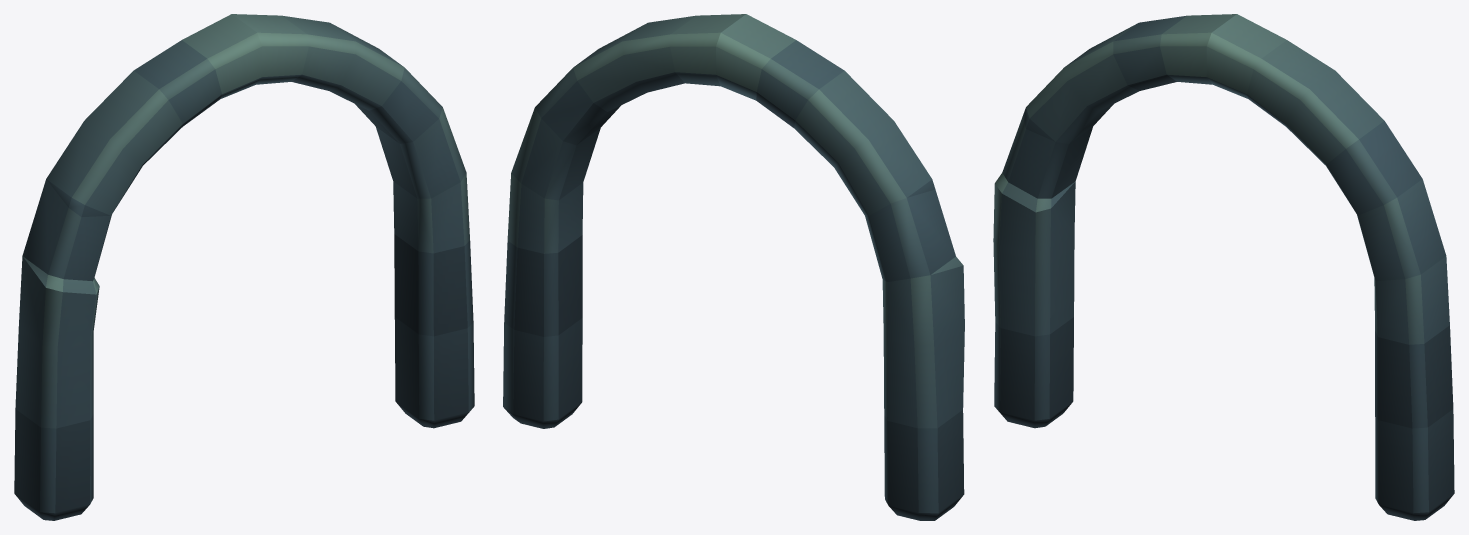
The model's file is archway_small.fbx.
3 views of the same model, side by side, from view 1: azimuth 30°, elevation 25°; view 2: azimuth 150°, elevation 25°; view 3: azimuth 330°, elevation 25° (orthographic).
Visible parts, largest first — view 1: archway_small; view 2: archway_small; view 3: archway_small.
Part boxes in pixels (x1,y1,x2,y2): archway_small: (14,14,474,520); archway_small: (503,14,964,520); archway_small: (993,14,1454,520).
Size of the model in its own units: 404 by 389 by 61.02.
